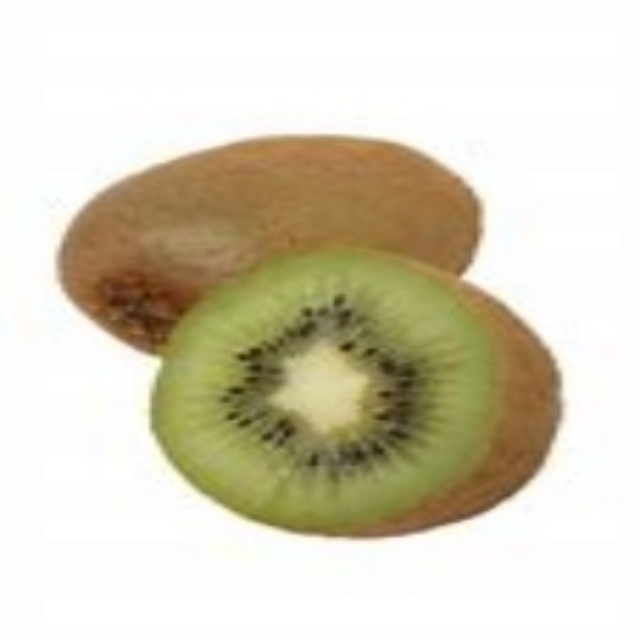kiwi: (151, 246, 564, 548), (52, 135, 485, 354)
